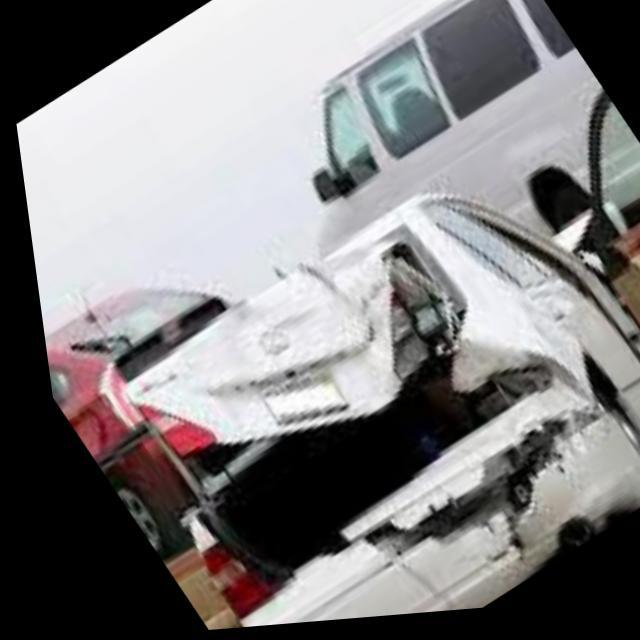crack: (120, 253, 602, 613)
